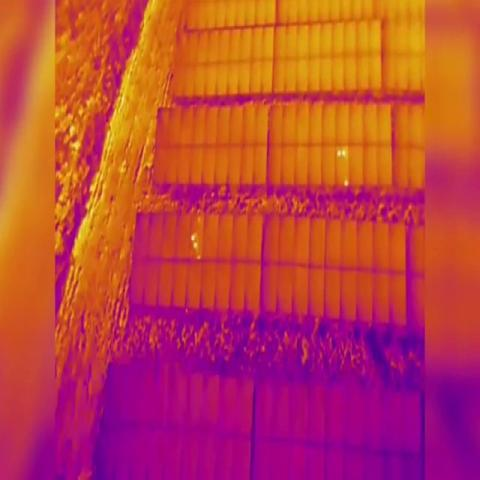fault: (343, 178, 349, 190), (337, 150, 343, 161), (191, 233, 196, 244), (342, 149, 346, 161), (197, 253, 202, 262), (194, 243, 198, 251)
